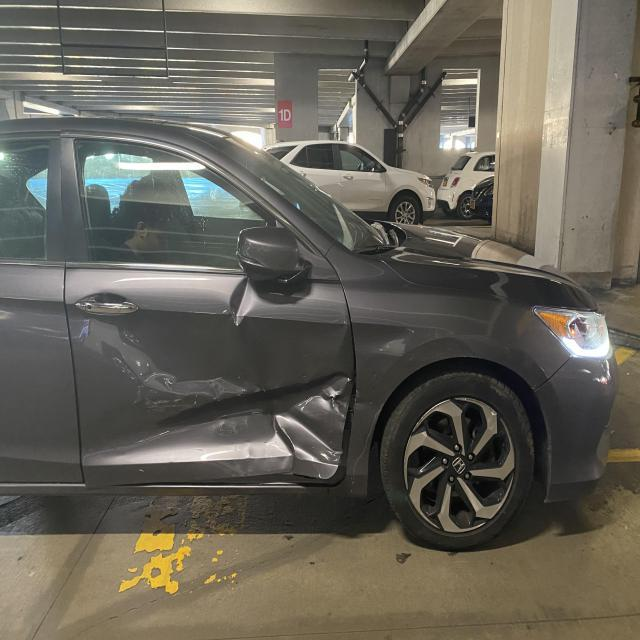damaged: (90, 361, 356, 482)
